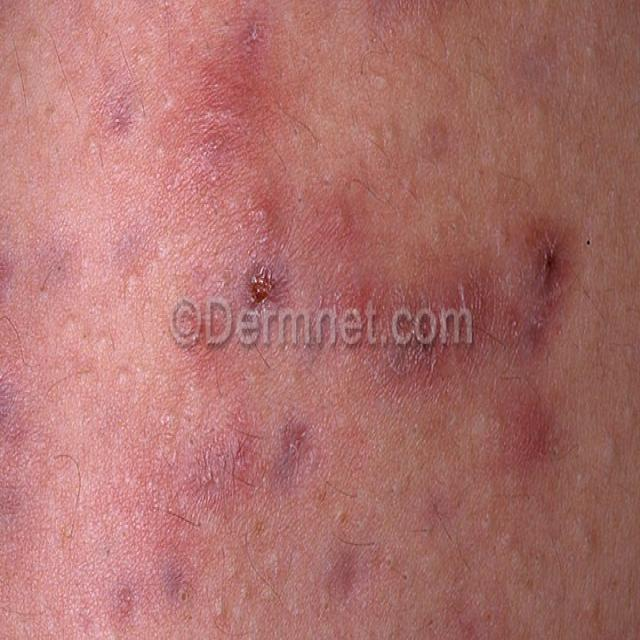acne: (507, 203, 581, 347), (204, 408, 312, 500), (234, 181, 292, 302), (486, 377, 560, 467)
